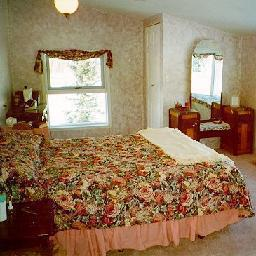Cama: (4, 121, 204, 200)
Puerta: (146, 20, 161, 128)
Ventana: (47, 54, 111, 128)
